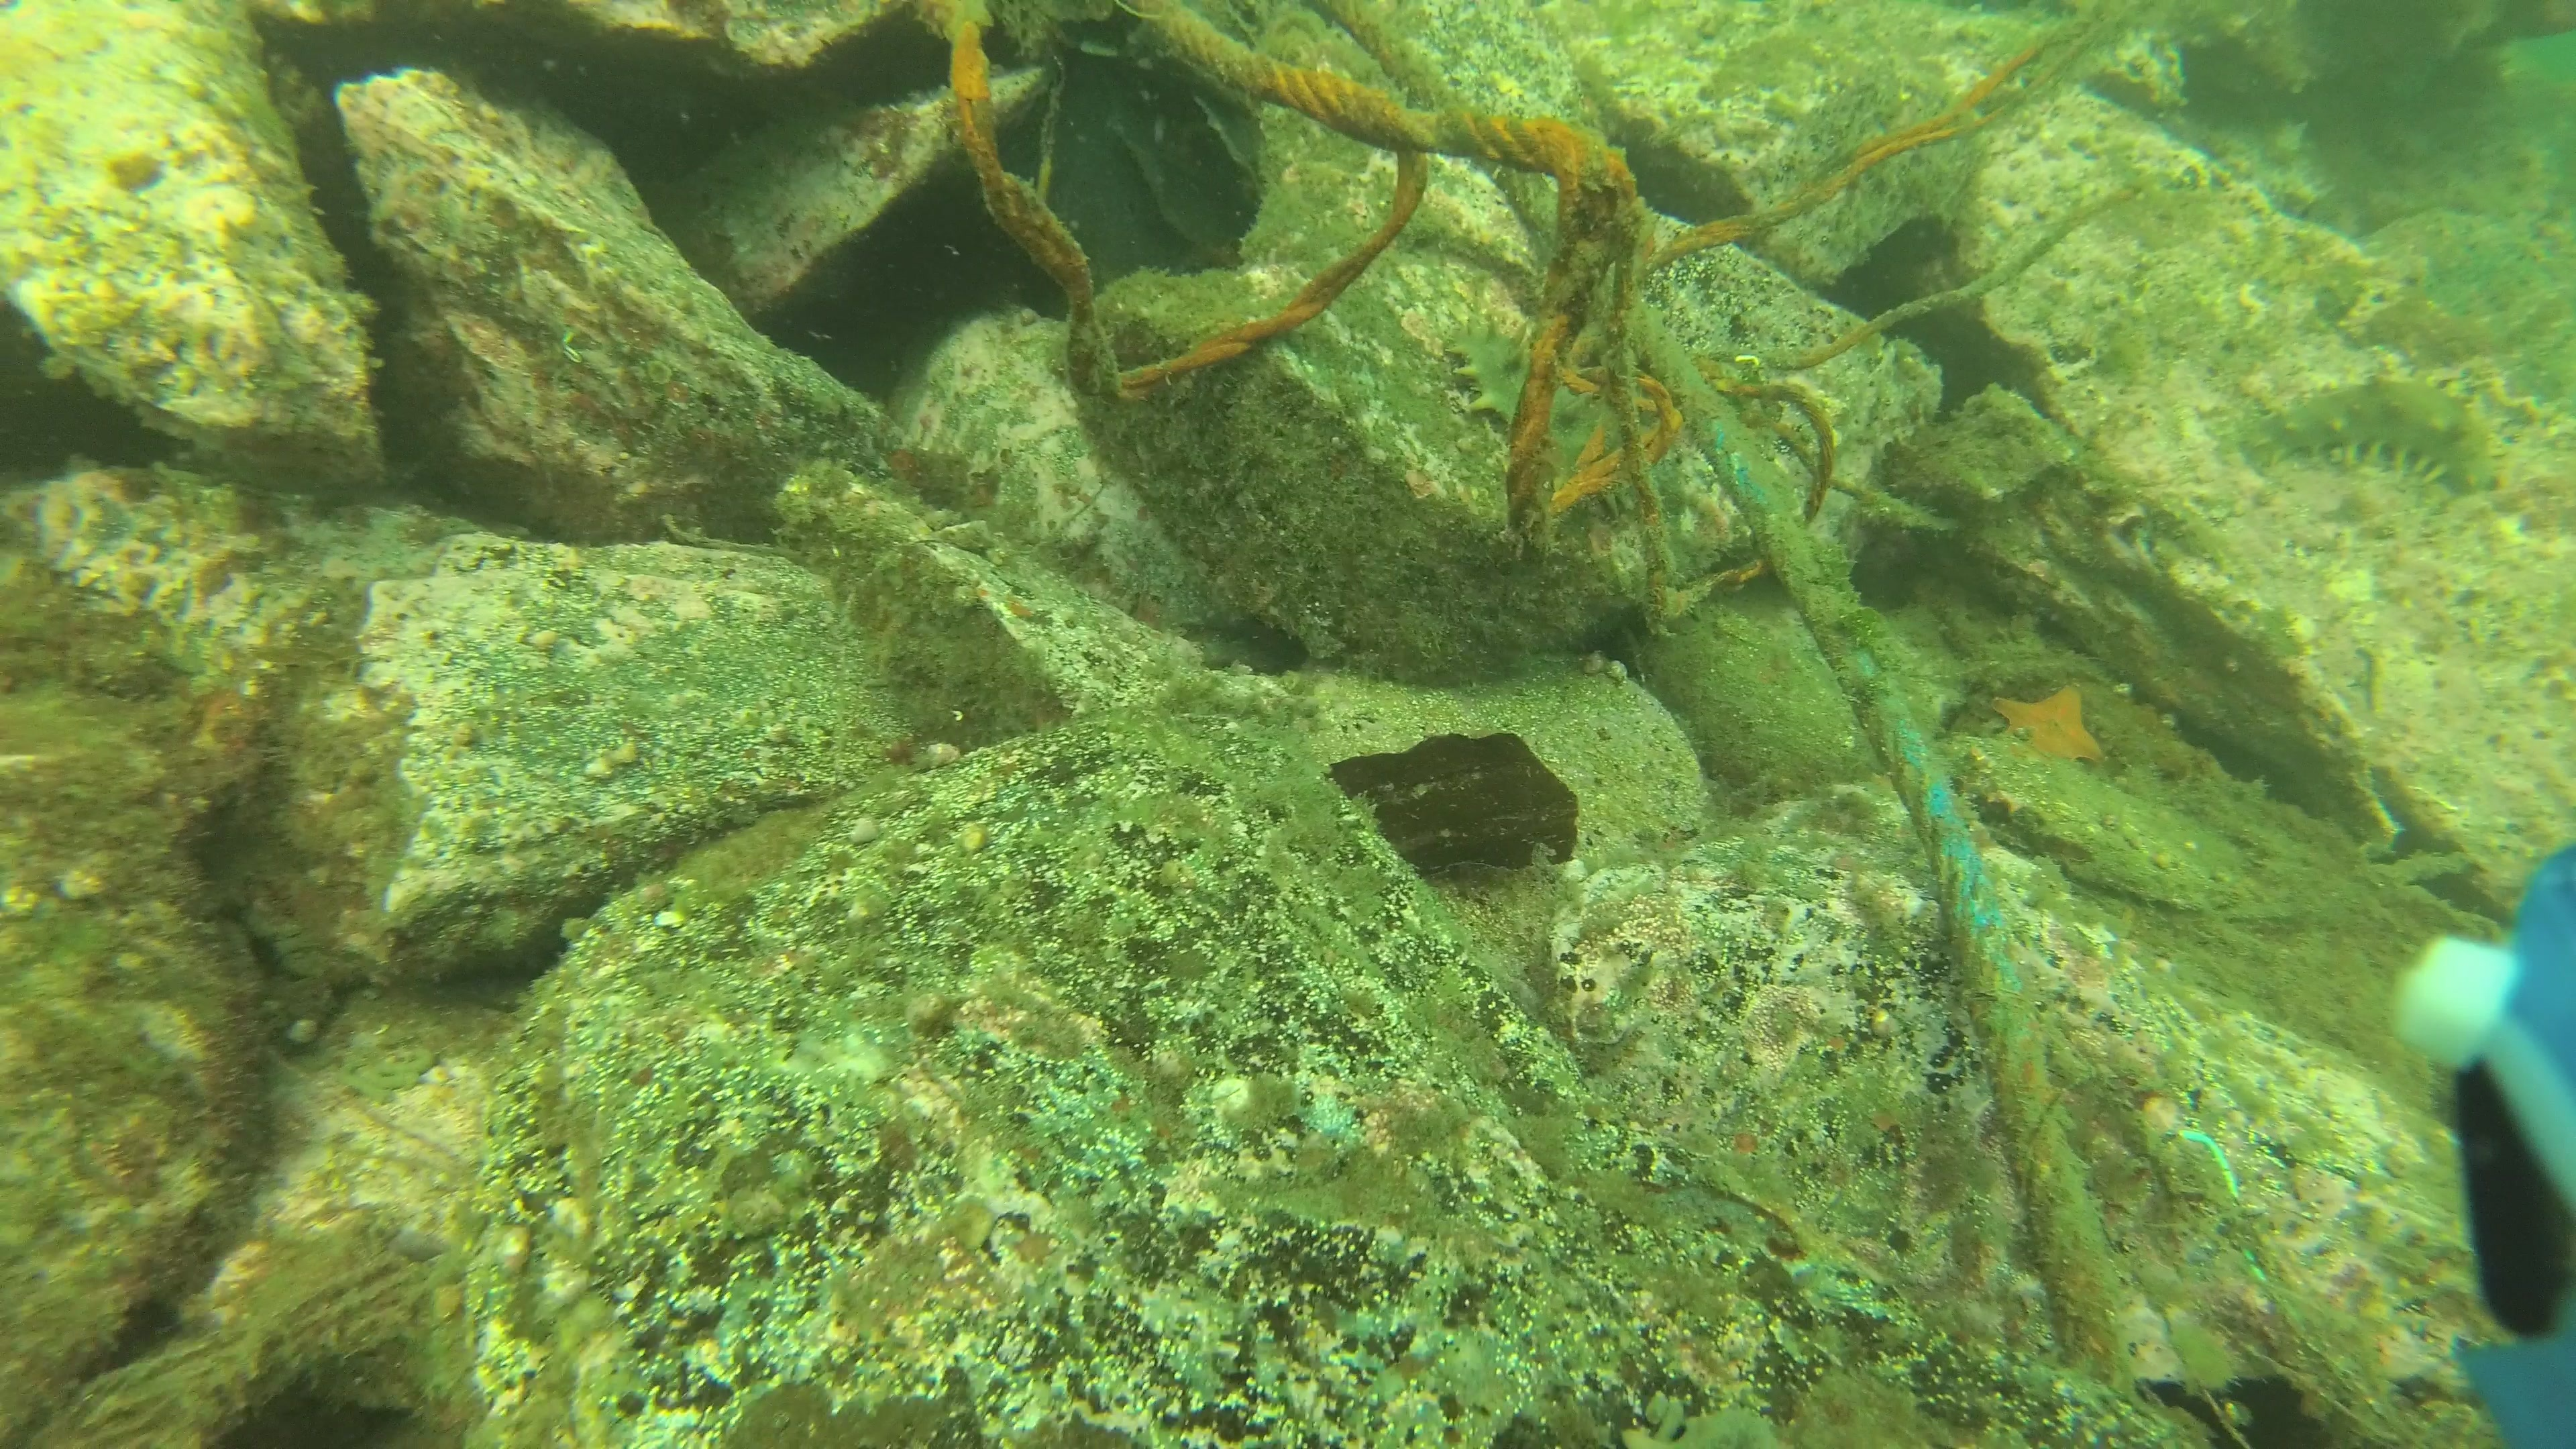holothurian: (1449, 320, 1668, 525), (2231, 370, 2495, 488)
starfish: (1997, 678, 2112, 780)
